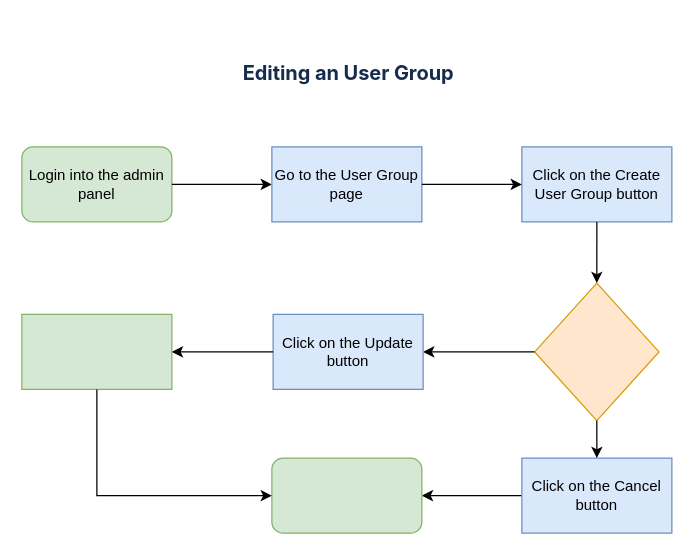
The diagram is 694 pixels wide and 555 high, and some of its shapes have lost their labels. Here are the shapes that lost their labels. From the top down, the centre of each, then its label:
At pixel 96 351: "User Group updated successfully".
At pixel 596 351: "Update details and map outlets".
At pixel 346 495: "Back to User Group List Table".
